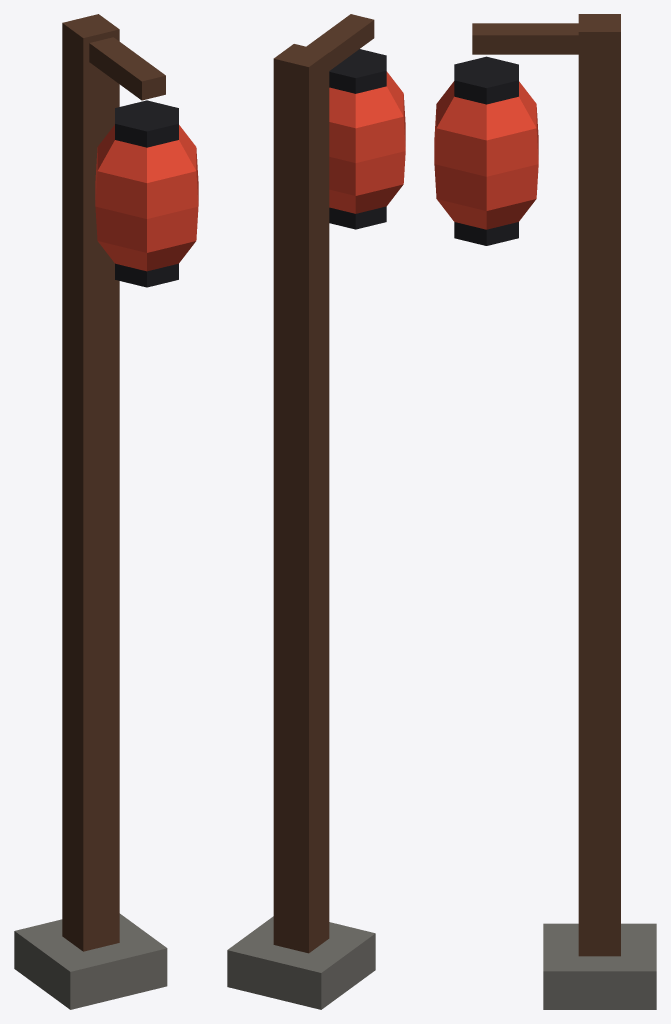
The model's file is chochin-pole.glb.
3 views of the same model, side by side, from view 1: azimuth 30°, elevation 25°; view 2: azimuth 150°, elevation 25°; view 3: azimuth 270°, elevation 25° (orthographic). The views are drawn at different scales.
Visible parts, largest first — view 1: ChochinPole_Pole, ChochinPole_Lantern, ChochinPole_Base, ChochinPole_Caps; view 2: ChochinPole_Pole, ChochinPole_Lantern, ChochinPole_Base, ChochinPole_Caps; view 3: ChochinPole_Pole, ChochinPole_Lantern, ChochinPole_Base, ChochinPole_Caps.
Boxes of the visible parts, left/top/right/bottom form: ChochinPole_Pole: left=62, top=14, right=165, bottom=951; ChochinPole_Lantern: left=95, top=125, right=198, bottom=271; ChochinPole_Base: left=14, top=913, right=167, bottom=1009; ChochinPole_Caps: left=115, top=100, right=178, bottom=287; ChochinPole_Pole: left=273, top=14, right=374, bottom=953; ChochinPole_Lantern: left=329, top=71, right=405, bottom=213; ChochinPole_Base: left=227, top=916, right=375, bottom=1009; ChochinPole_Caps: left=329, top=49, right=386, bottom=229; ChochinPole_Pole: left=472, top=14, right=620, bottom=956; ChochinPole_Lantern: left=434, top=81, right=538, bottom=229; ChochinPole_Base: left=543, top=923, right=656, bottom=1009; ChochinPole_Caps: left=454, top=56, right=518, bottom=245.
Size of the model in its own units: 1.7 by 15 by 3.14.
